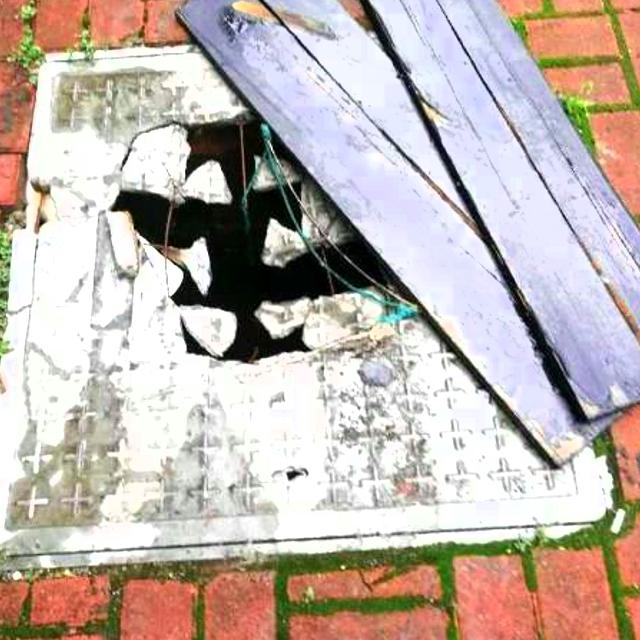broke: (0, 0, 626, 581)
